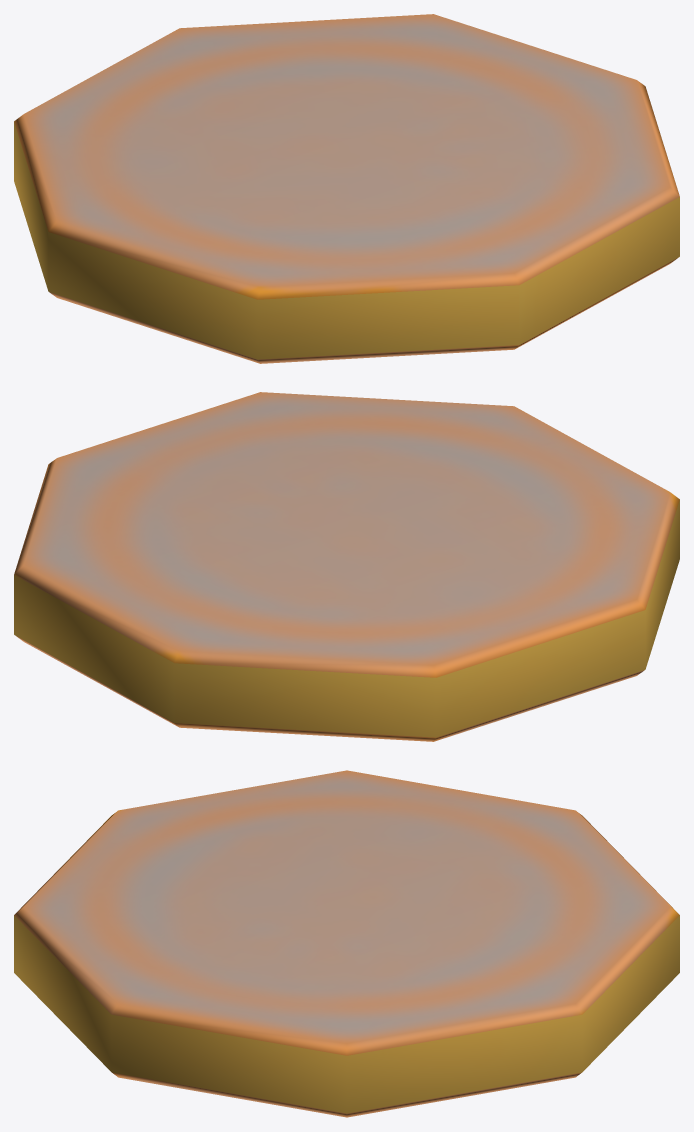
Rendered from Coin.fbx.
The picture shows the model from 3 angles, top to bottom: view 1: azimuth 30°, elevation 25°; view 2: azimuth 150°, elevation 25°; view 3: azimuth 270°, elevation 25°; orthographic projection. The views are drawn at different scales.
Parts seen in each view (by area): view 1: Coin.001; view 2: Coin.001; view 3: Coin.001.
Part boxes in pixels (x1,y1,x2,y2): Coin.001: [14, 14, 679, 363]; Coin.001: [14, 392, 679, 741]; Coin.001: [14, 770, 679, 1117].
Size of the model in its own units: 108 by 13.18 by 108.
